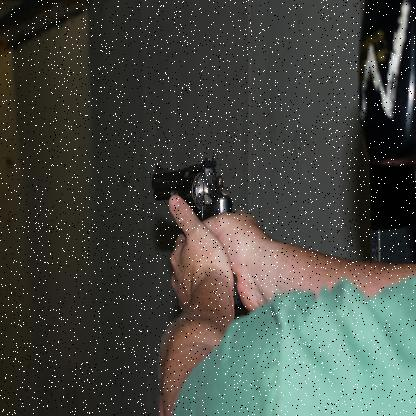pistol: (151, 151, 241, 310)
